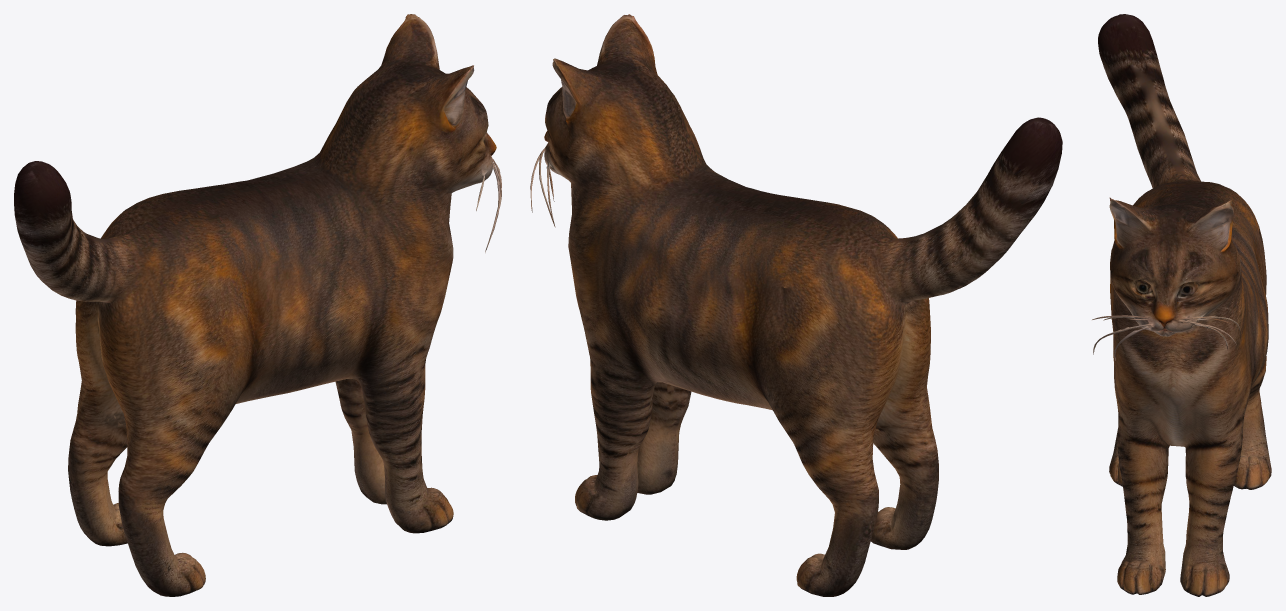
Rendered from PICKLECCAT.glb.
The picture shows the model from 3 angles, left to right: view 1: azimuth 30°, elevation 25°; view 2: azimuth 150°, elevation 25°; view 3: azimuth 270°, elevation 25°; orthographic projection. The views are drawn at different scales.
Parts seen in each view (by area): view 1: material; view 2: material; view 3: material.
Boxes of the visible parts, box(x1,y1,x2,y2) form: material: box(14, 14, 501, 596); material: box(530, 14, 1062, 596); material: box(1092, 14, 1271, 596).
Bounding box in the file's own units: 1.13 × 0.9993 × 0.4056.
1 material, 1 textured.
